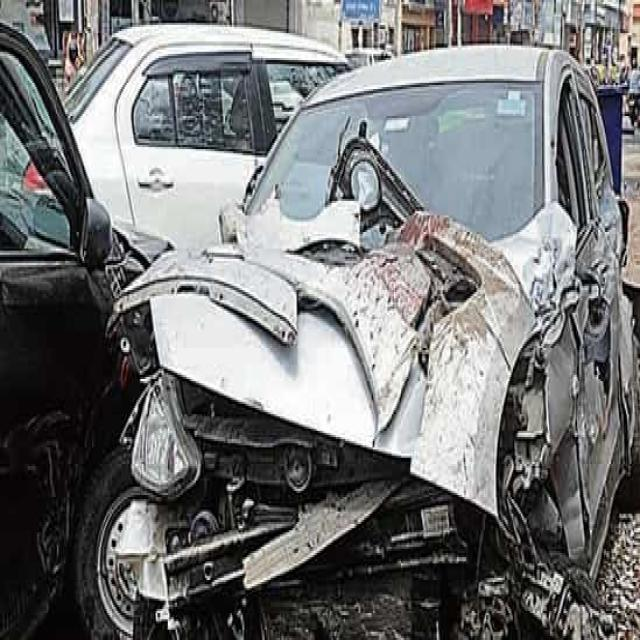accident: (75, 47, 640, 637)
